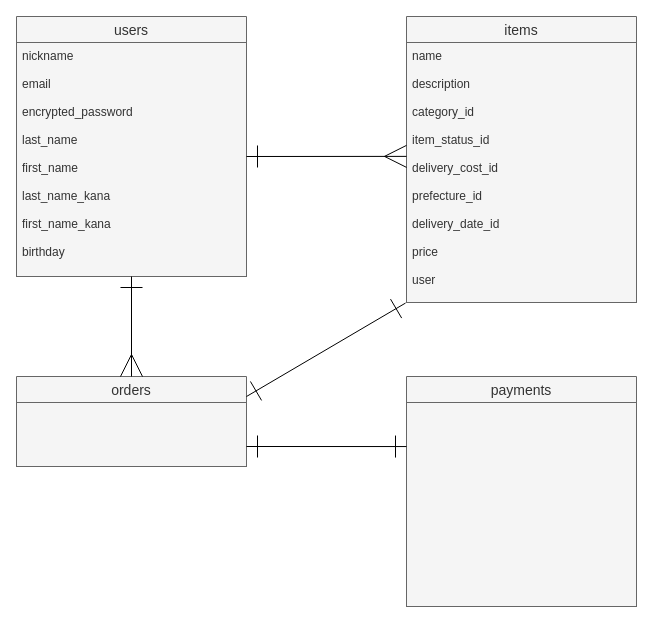
The diagram is 653 pixels wide and 623 high, and some of its shapes have lost their labels. Here are the shapes that lost their labels. From the top down, the centre of each, then its label:
the point at 131,434: user item
the point at 521,504: postcode prefecture_id city block building phone_number order
